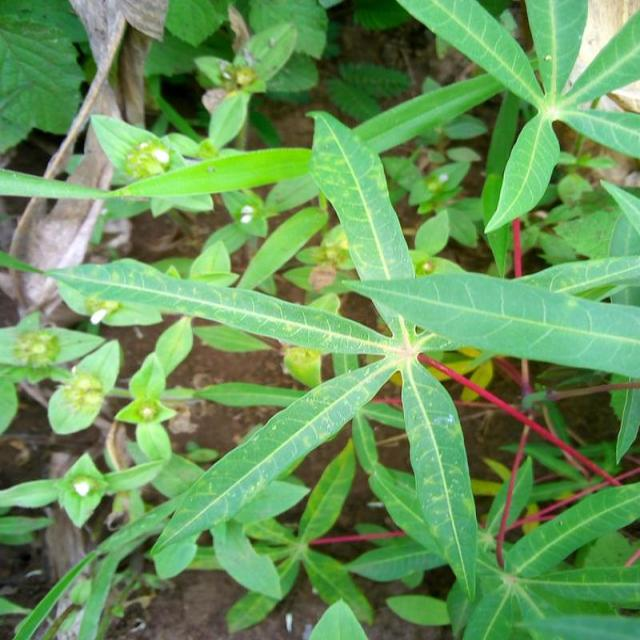cassava leaf: (147, 353, 399, 580), (342, 269, 638, 380), (398, 355, 478, 601)
